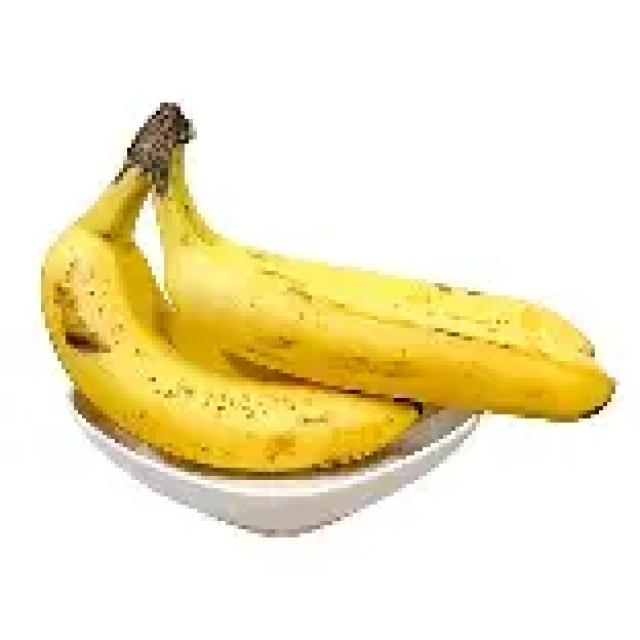BANANA: (43, 102, 621, 471)
